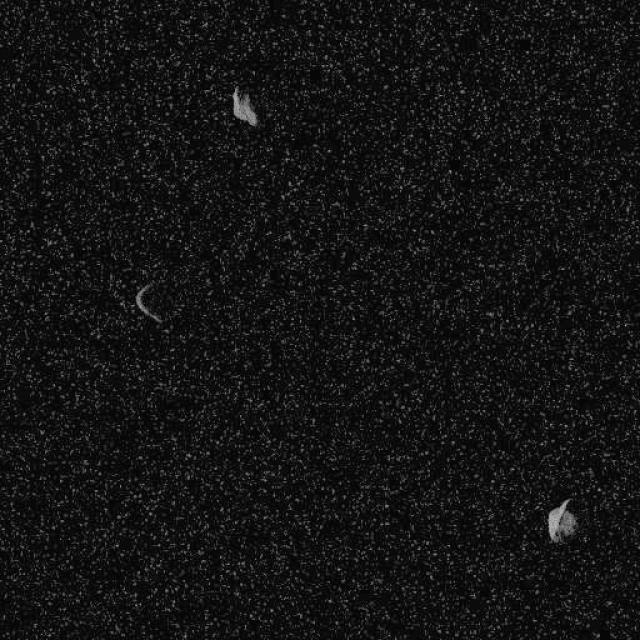D2: (546, 496, 579, 544), (134, 278, 162, 324), (230, 85, 259, 126)
